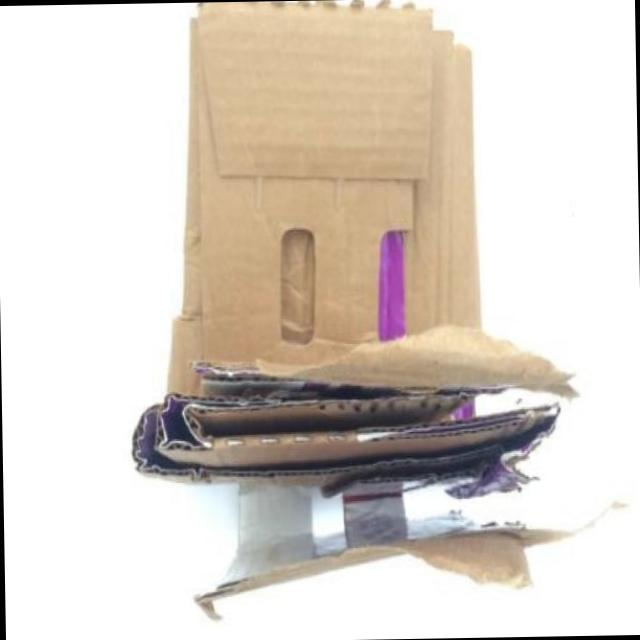cardboard paper: (135, 0, 575, 572)
